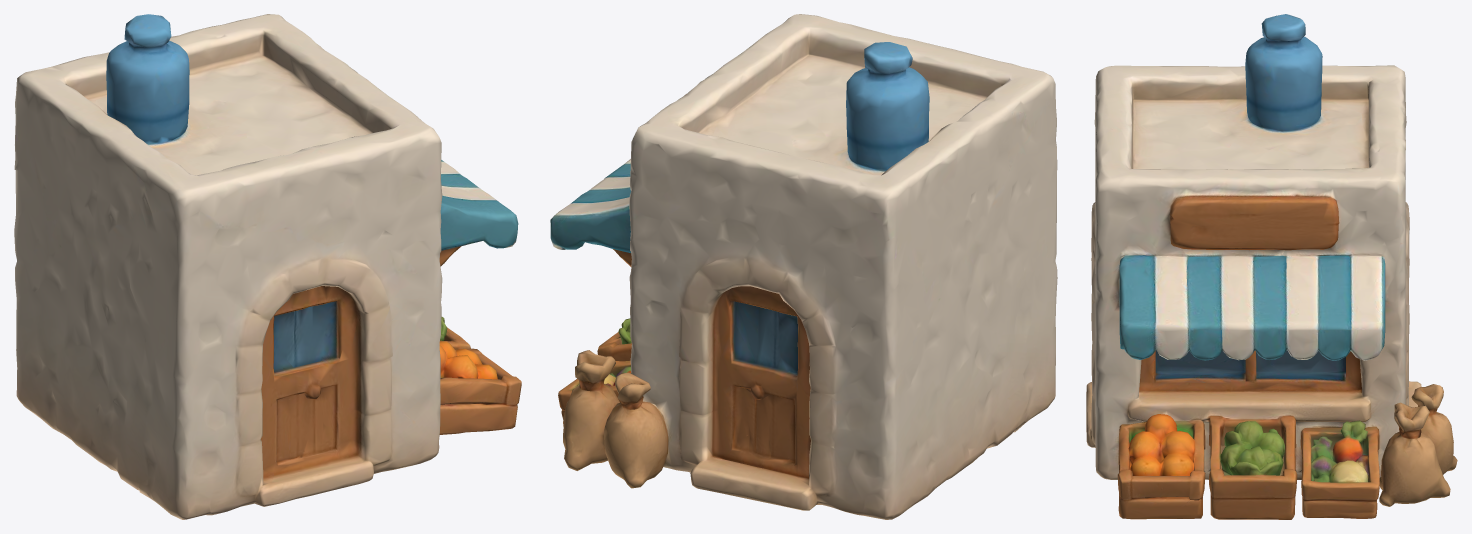
File: shop.glb
3 renders of one model, left to right at view 1: azimuth 30°, elevation 25°; view 2: azimuth 150°, elevation 25°; view 3: azimuth 270°, elevation 25°, orthographic. The views are drawn at different scales.
Parts seen in each view (by area): view 1: tripo_node_c7445977-14f6-48e3-9829-e86a9aba6a5d; view 2: tripo_node_c7445977-14f6-48e3-9829-e86a9aba6a5d; view 3: tripo_node_c7445977-14f6-48e3-9829-e86a9aba6a5d.
Boxes of the visible parts, left/top/right/bottom form: tripo_node_c7445977-14f6-48e3-9829-e86a9aba6a5d: left=14, top=14, right=521, bottom=519; tripo_node_c7445977-14f6-48e3-9829-e86a9aba6a5d: left=550, top=14, right=1057, bottom=519; tripo_node_c7445977-14f6-48e3-9829-e86a9aba6a5d: left=1086, top=14, right=1457, bottom=519.
Bounding box in the file's own units: 0.9098 × 1 × 0.8916.
1 material, 1 textured.
